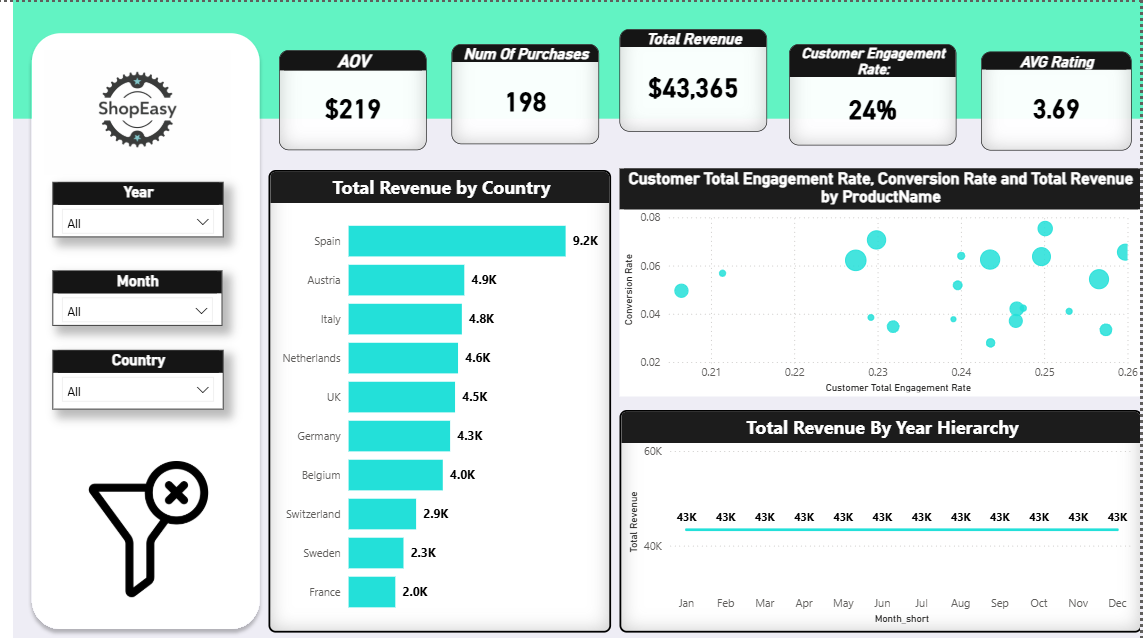

Layout of this report page (visuals, bound fields, positions):
{"tool":"powerbi","page":{"name":"Marketing Manage","canvas":[1280,720],"ordinal":3},"visuals":[{"type":"card","title":"AVG Rating","fields":{"Values":["MeasuresTable.Average Rating"]},"box":[1102.9,54.3,167.1,110],"z":0},{"type":"card","title":"Num Of Purchases","fields":{"Values":["MeasuresTable.Total Purchases"]},"box":[514.3,47.1,164.3,111.4],"z":1000},{"type":"card","title":"Total Revenue","fields":{"Values":["MeasuresTable.Total Revenue"]},"box":[701.4,30,164.3,114.3],"z":2000},{"type":"card","title":"AOV","fields":{"Values":["MeasuresTable.Average Order Value"]},"box":[322.9,52.9,164.3,111.4],"z":3000},{"type":"lineChart","title":"Total Revenue By Year Hierarchy ","fields":{"Y":["MeasuresTable.Total Revenue"],"Category":["Calendar.Year Hierarchy.Year","Calendar.Year Hierarchy.Quarter","Calendar.Year Hierarchy.Month_short","Calendar.Year Hierarchy.Date"]},"box":[701.4,452.8,580.6,247.2],"z":4000},{"type":"image","box":[82.9,510,190,151.4],"z":5000},{"type":"card","title":"Customer Engagement Rate:","fields":{"Values":["MeasuresTable.Customer Total Engagement Rate"]},"box":[890,47.1,185.7,112.9],"z":6000},{"type":"image","box":[60.5,52.8,212.2,138.6],"z":7000},{"type":"scatterChart","fields":{"X":["MeasuresTable.Customer Total Engagement Rate"],"Y":["MeasuresTable.Conversion Rate"],"Size":["MeasuresTable.Total Revenue"],"Category":["NewProducts.ProductName"]},"box":[701.4,185.5,581.2,253.6],"z":8000},{"type":"slicer","title":"Year","fields":{"Values":["Calendar.Year"]},"box":[71.4,200,190,61.4],"z":9000},{"type":"slicer","title":"Month","fields":{"Values":["Calendar.Month_short"]},"box":[71.4,298.6,188.6,61.4],"z":10000},{"type":"slicer","title":"Country","fields":{"Values":["NewGeography.Country"]},"box":[71.4,387.1,190,65.7],"z":11000},{"type":"clusteredBarChart","title":"Total Revenue  by Country","fields":{"Y":["MeasuresTable.Total Revenue"],"Category":["NewGeography.Country"]},"box":[311.1,186.1,380.6,513.9],"z":12000}]}

Visuals, with their boxes in screenshot pixels (x1, y1, x2, y2), scaled from the page's 1280x720 canvas onto the 1143x638 screenshot:
"AVG Rating" card: [x1=985, y1=48, x2=1134, y2=146]
"Num Of Purchases" card: [x1=459, y1=42, x2=606, y2=140]
"Total Revenue" card: [x1=626, y1=27, x2=773, y2=128]
"AOV" card: [x1=288, y1=47, x2=435, y2=146]
"Total Revenue By Year Hierarchy " lineChart: [x1=626, y1=401, x2=1142, y2=620]
image: [x1=74, y1=452, x2=244, y2=586]
"Customer Engagement Rate:" card: [x1=795, y1=42, x2=961, y2=142]
image: [x1=54, y1=47, x2=244, y2=170]
scatterChart - MeasuresTable.Customer Total Engagement Rate x MeasuresTable.Conversion Rate: [x1=626, y1=164, x2=1142, y2=389]
"Year" slicer: [x1=64, y1=177, x2=233, y2=232]
"Month" slicer: [x1=64, y1=265, x2=232, y2=319]
"Country" slicer: [x1=64, y1=343, x2=233, y2=401]
"Total Revenue  by Country" clusteredBarChart: [x1=278, y1=165, x2=618, y2=620]
